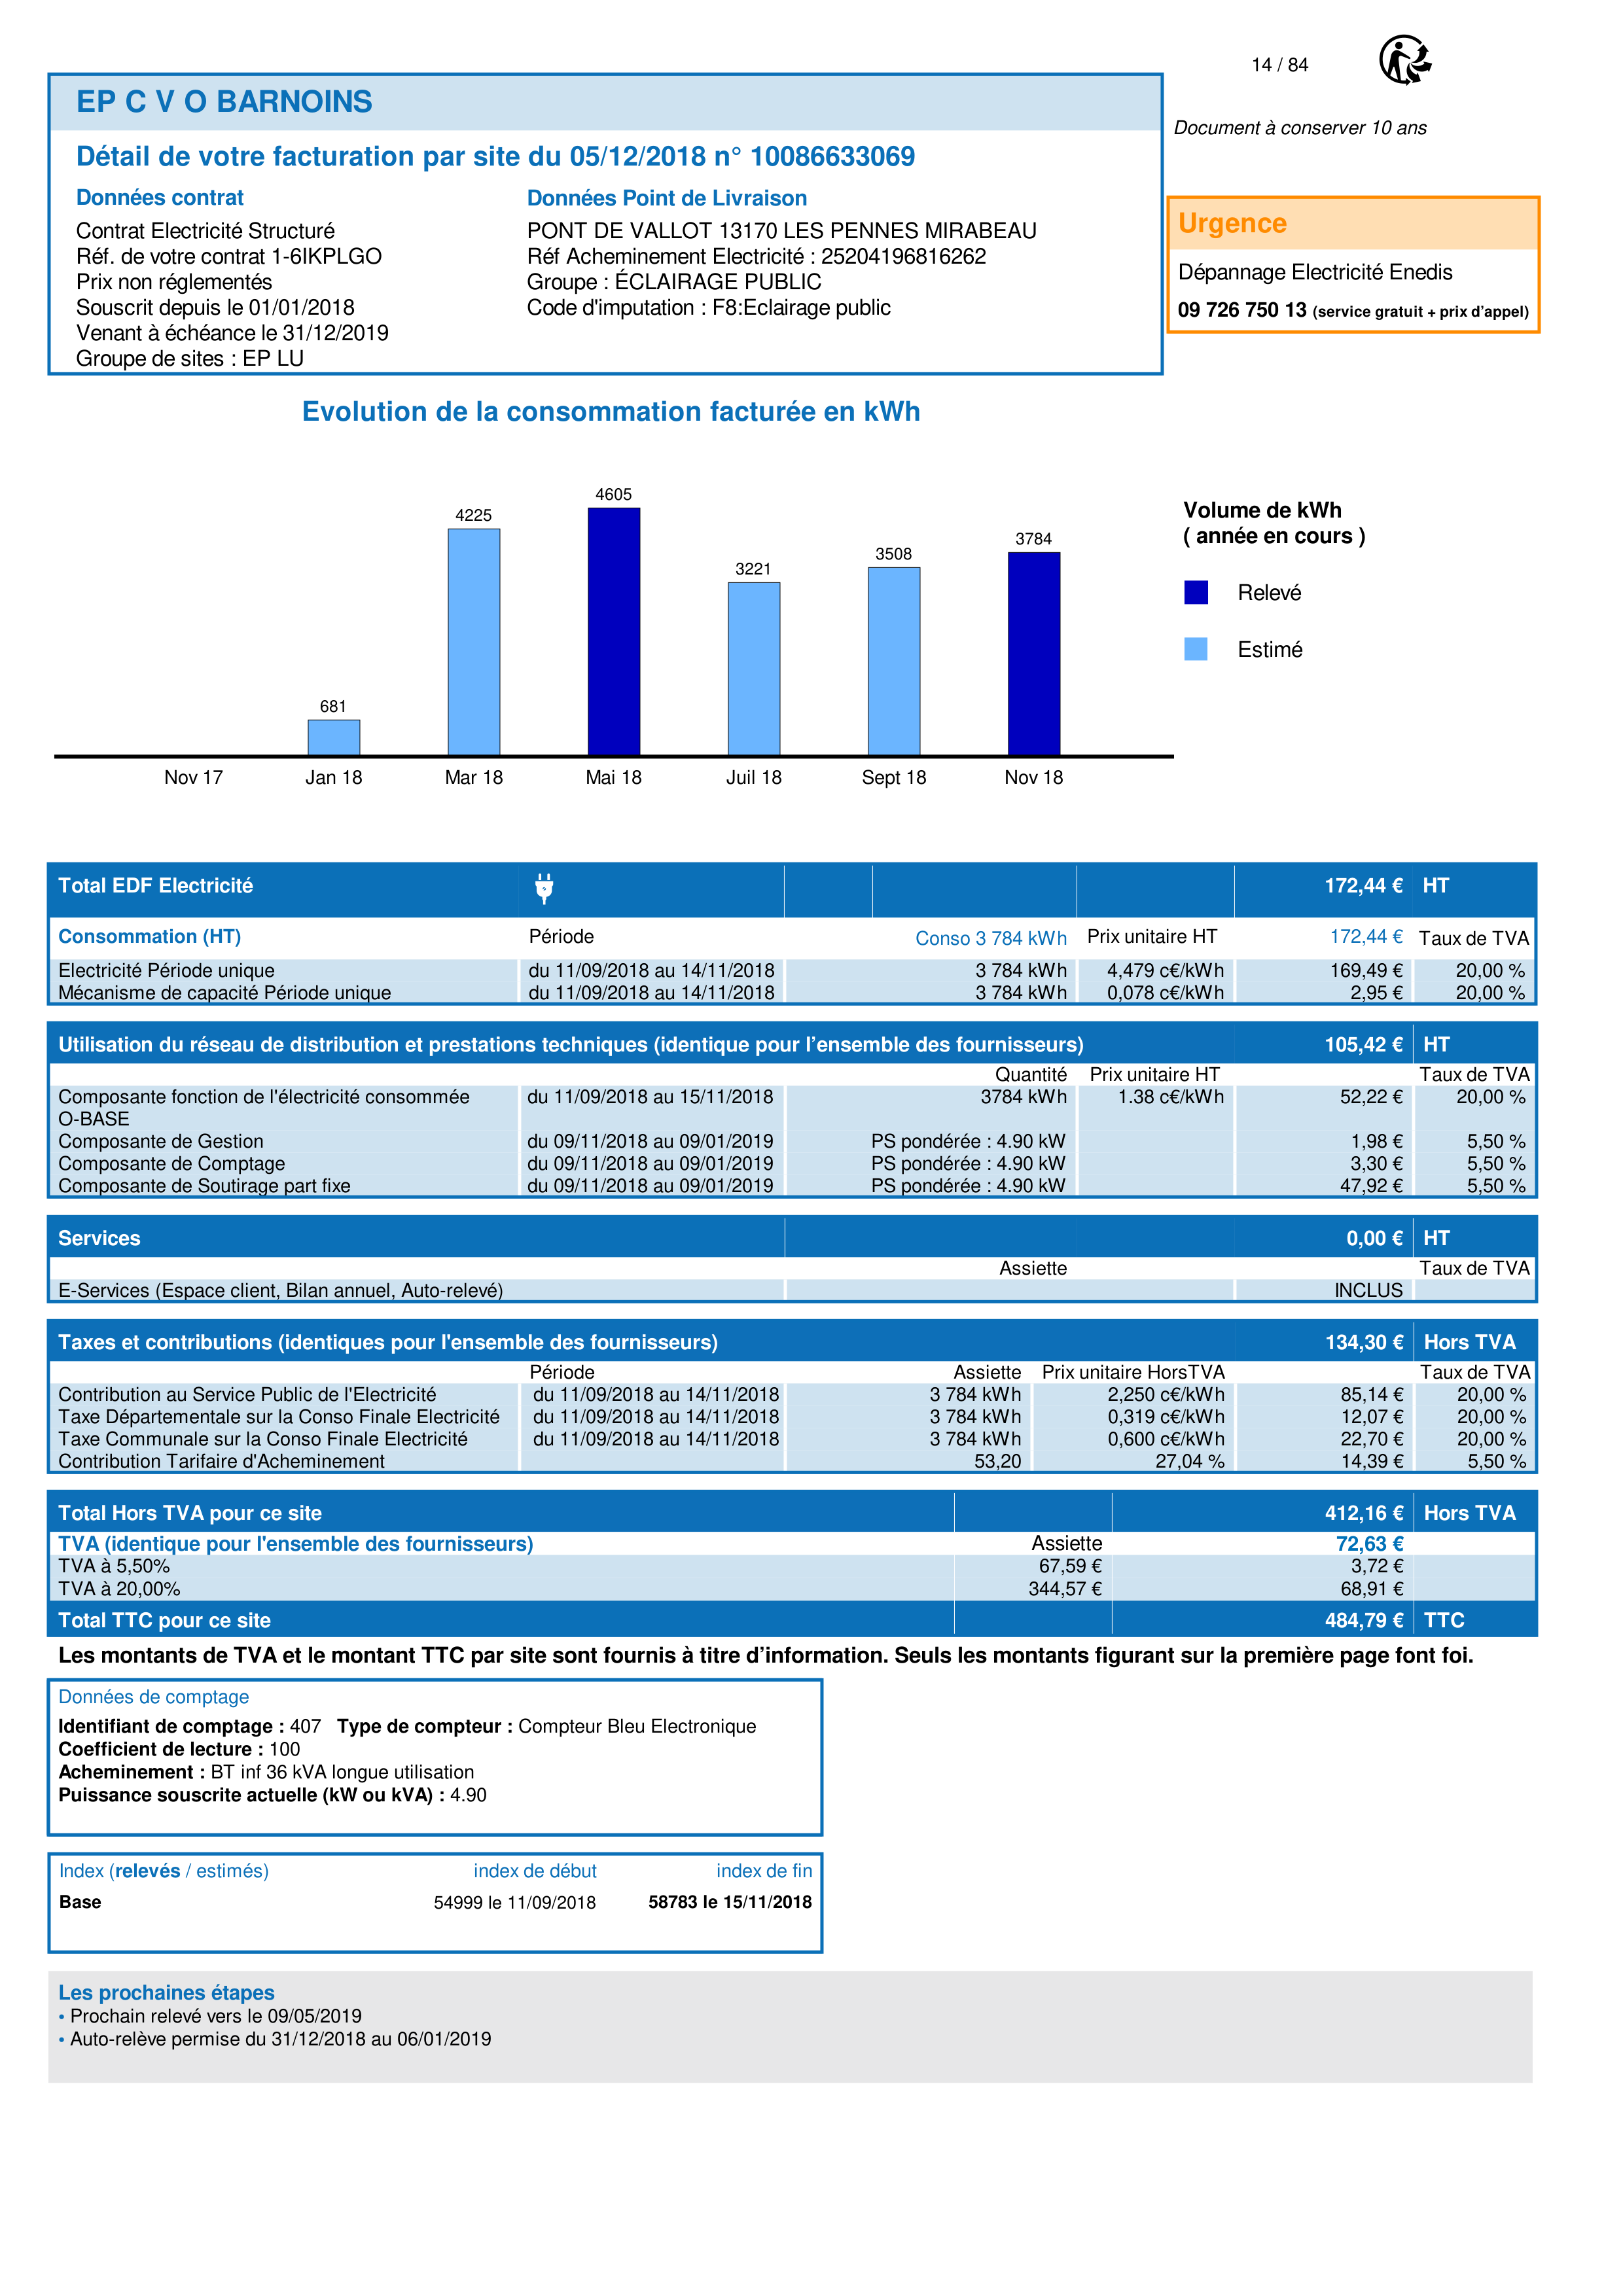area: (47, 1852, 819, 1953)
type_indicator: (52, 1854, 285, 1886)
